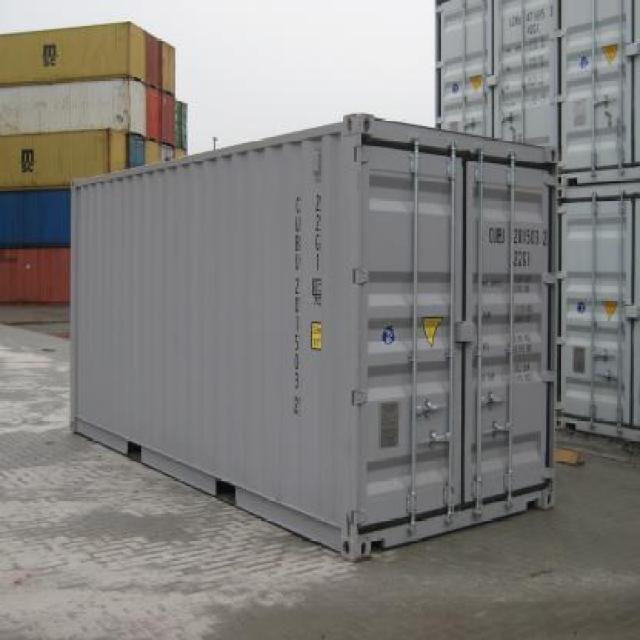ISO: (513, 250, 531, 269)
container_number: (484, 224, 548, 246)
